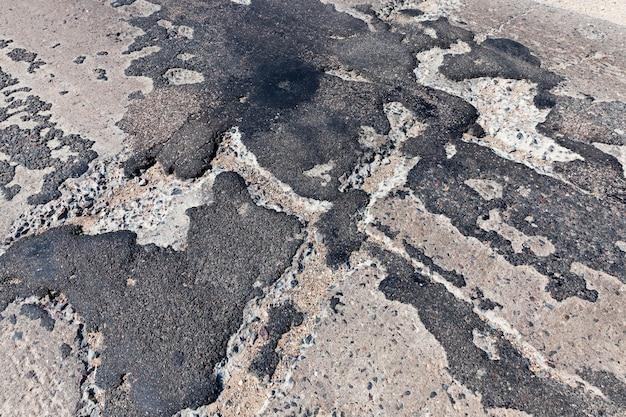pothole: (0, 0, 626, 417), (20, 52, 186, 269), (238, 113, 412, 291), (450, 72, 589, 200), (445, 320, 542, 408), (539, 262, 626, 351)
